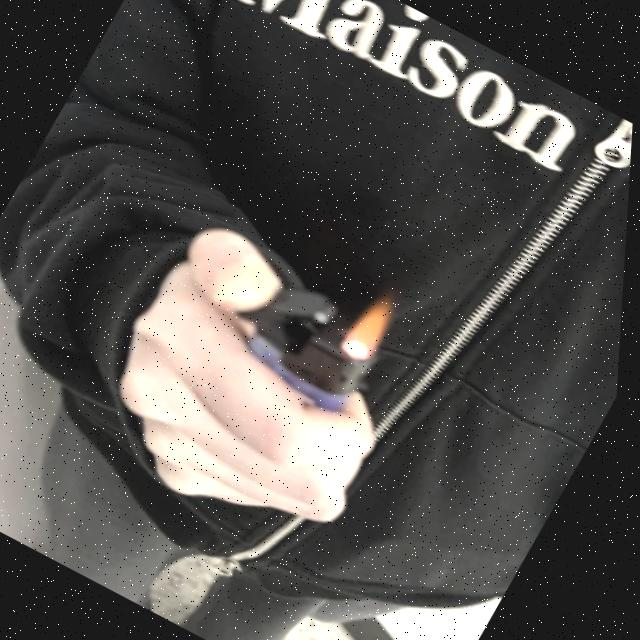Fire: (340, 283, 411, 367)
